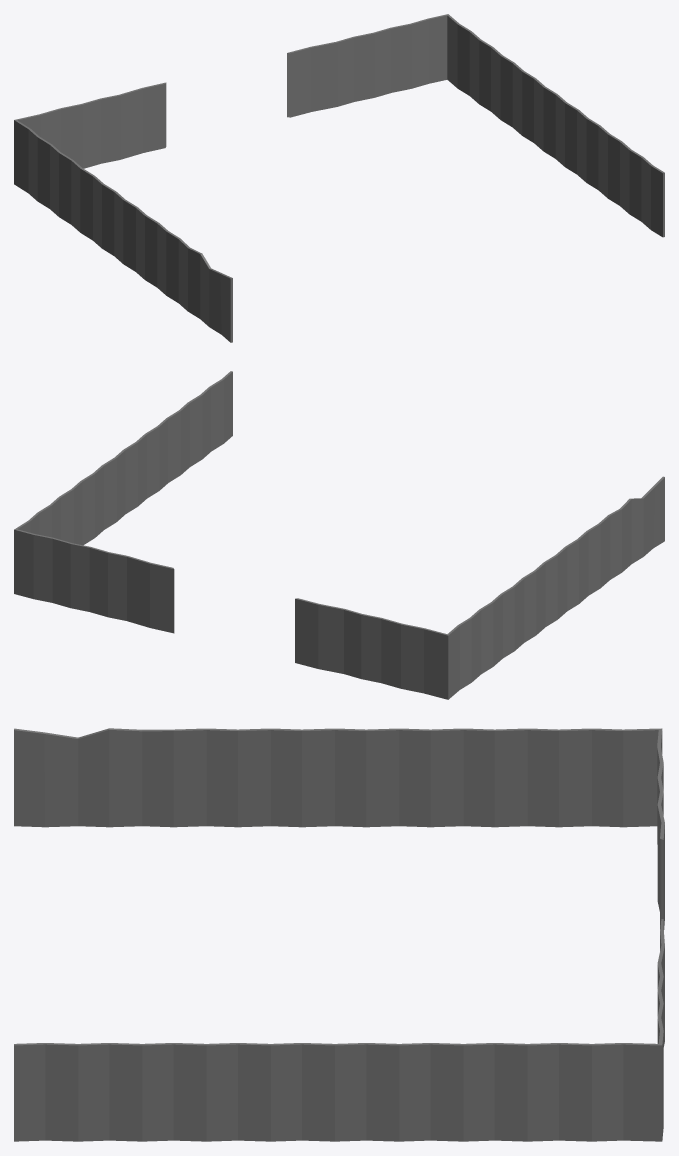
Rendered from SmallMetalWall2.fbx.
3 renders of one model, top to bottom at view 1: azimuth 30°, elevation 25°; view 2: azimuth 150°, elevation 25°; view 3: azimuth 270°, elevation 25°, orthographic. The views are drawn at different scales.
Visible parts, largest first — view 1: SmallMetalWall.001_LOD0; view 2: SmallMetalWall.001_LOD0; view 3: SmallMetalWall.001_LOD0.
Boxes of the visible parts, x1,y1,x2,y2 form: SmallMetalWall.001_LOD0: [14, 14, 664, 342]; SmallMetalWall.001_LOD0: [14, 371, 664, 699]; SmallMetalWall.001_LOD0: [14, 728, 664, 1141].
Size of what is drawn, in the model's own units: 3684 by 528 by 3195.
1 material, 1 textured.
